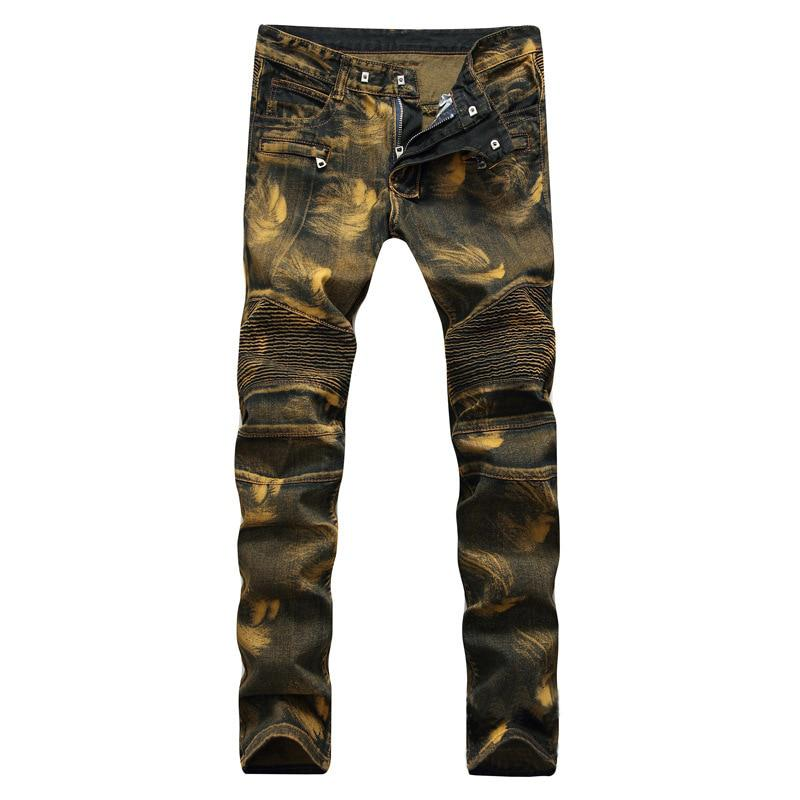jeans: (216, 19, 587, 783)
